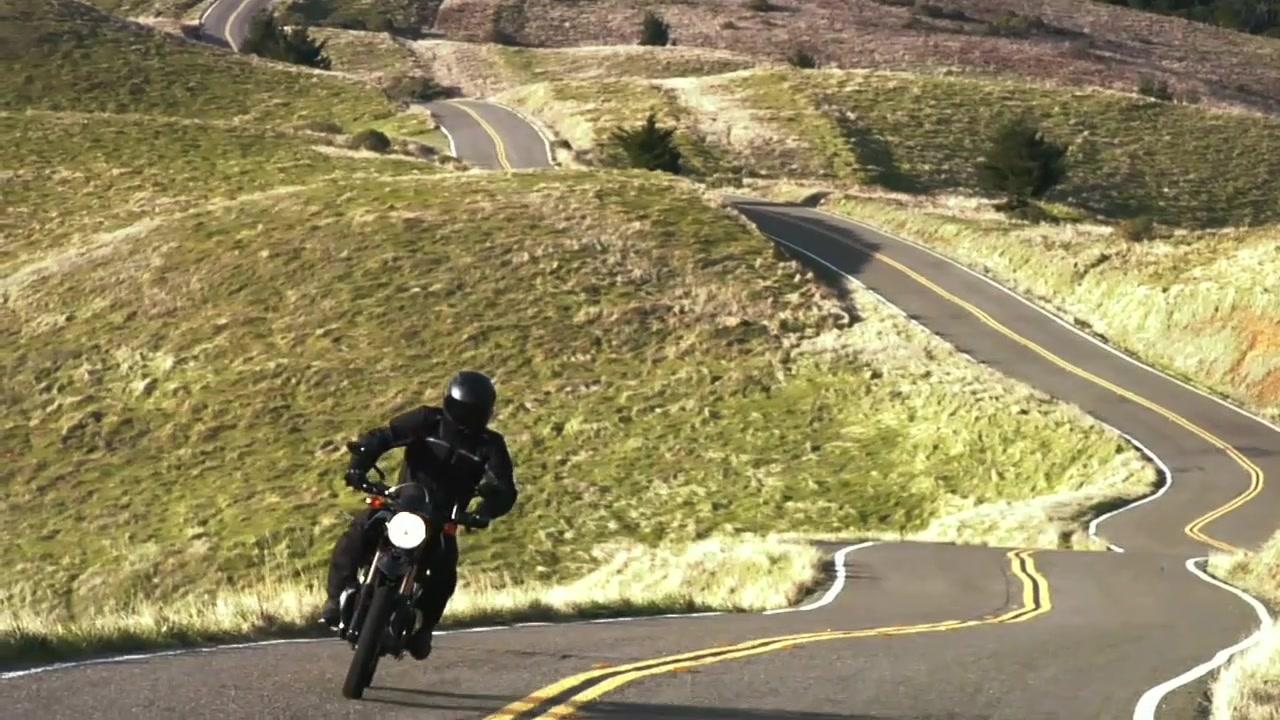motorbike: (328, 439, 494, 703)
